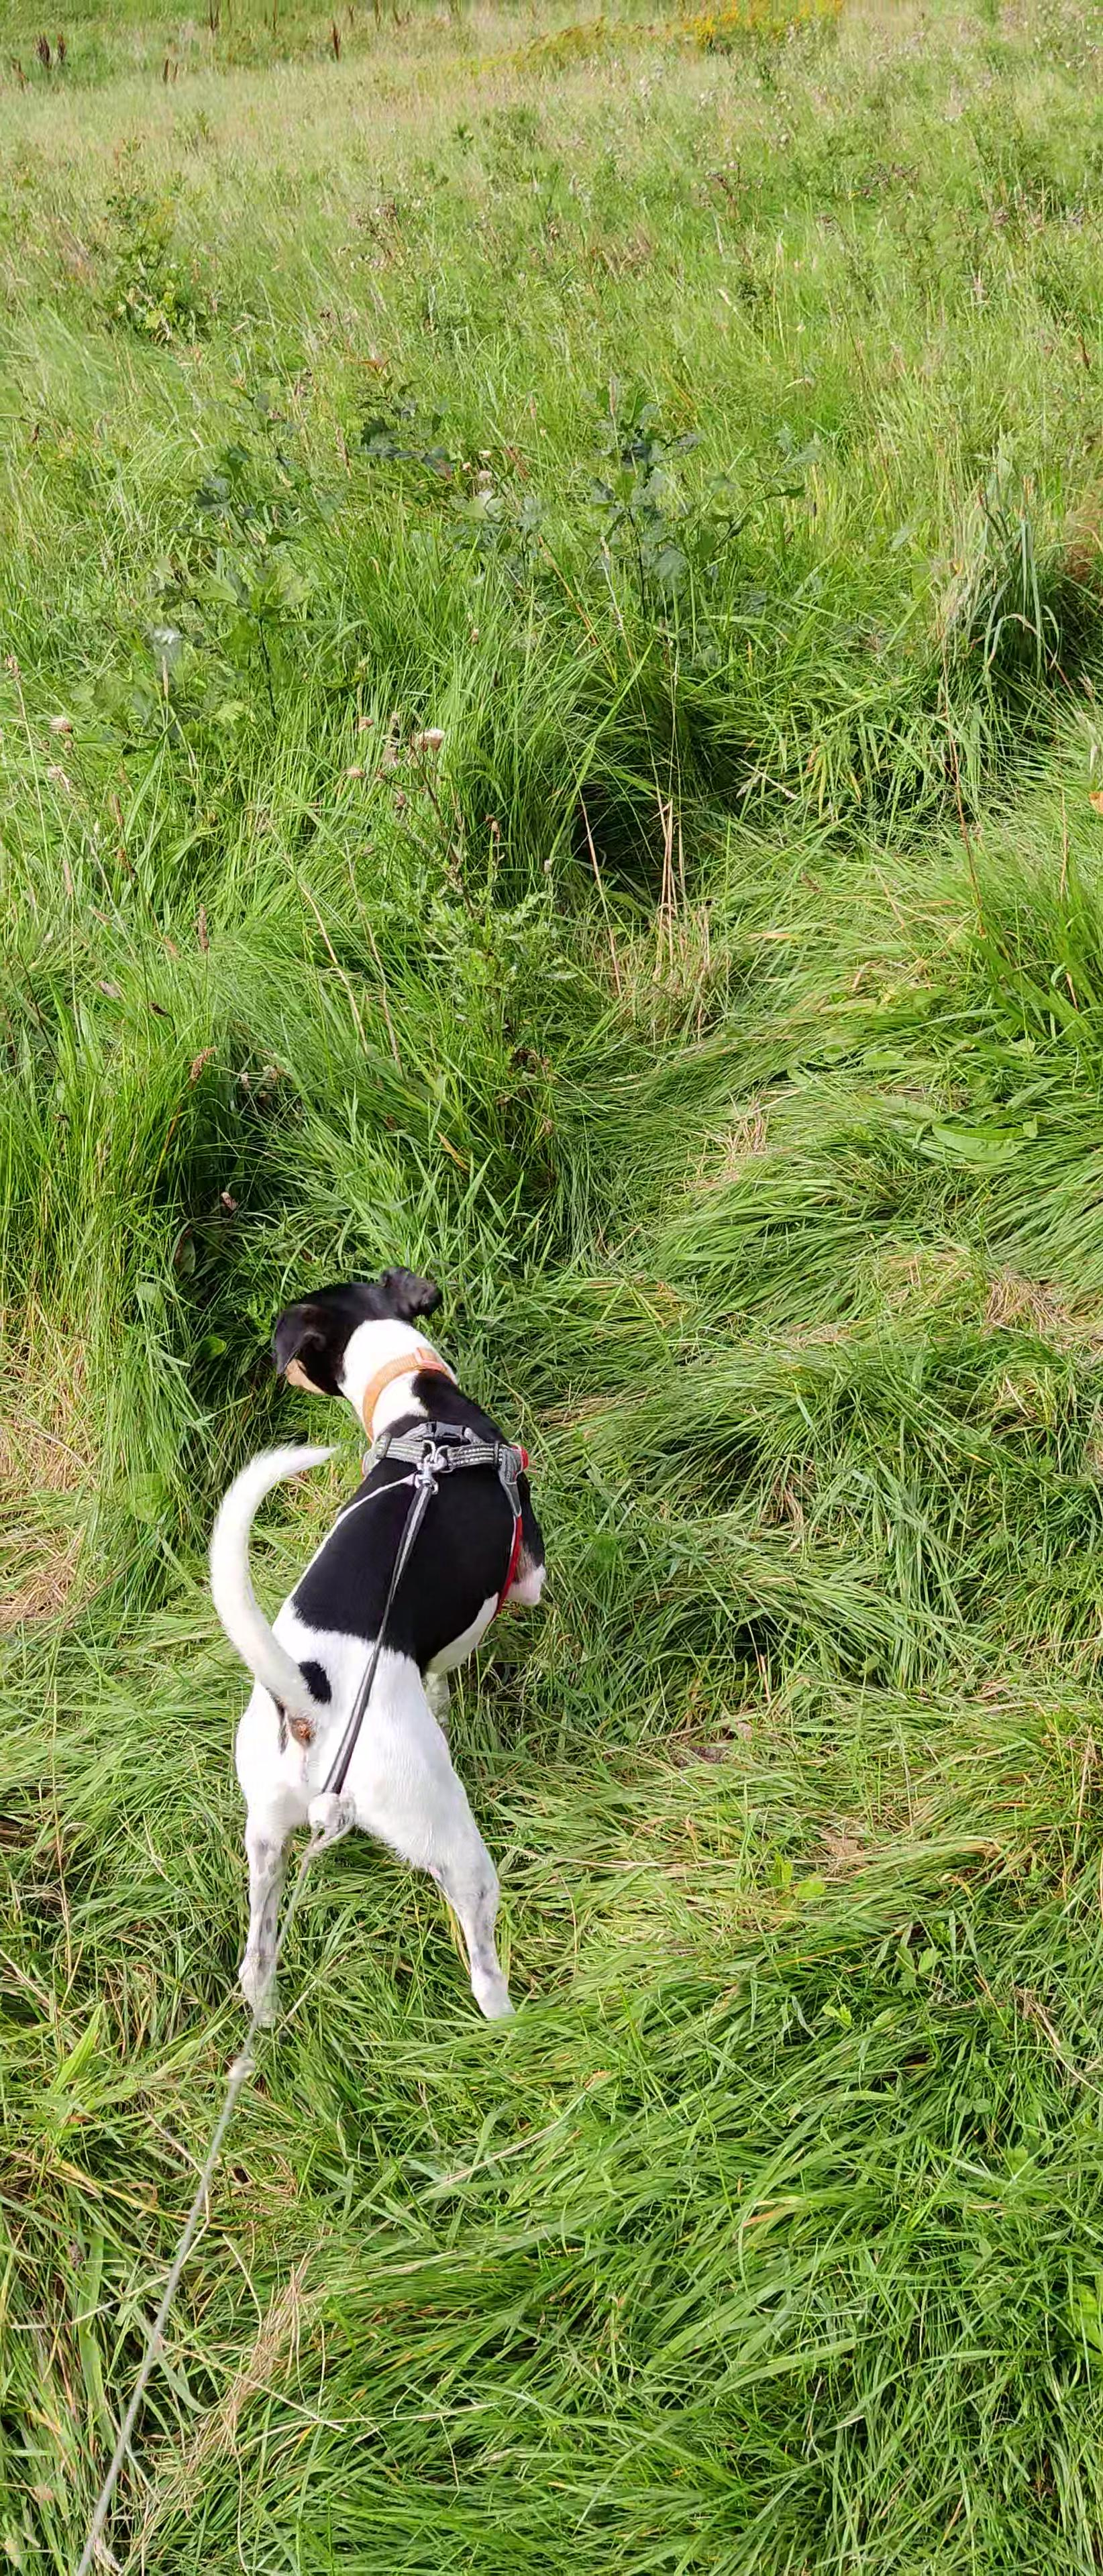Dog: (158, 1247, 554, 2024)
